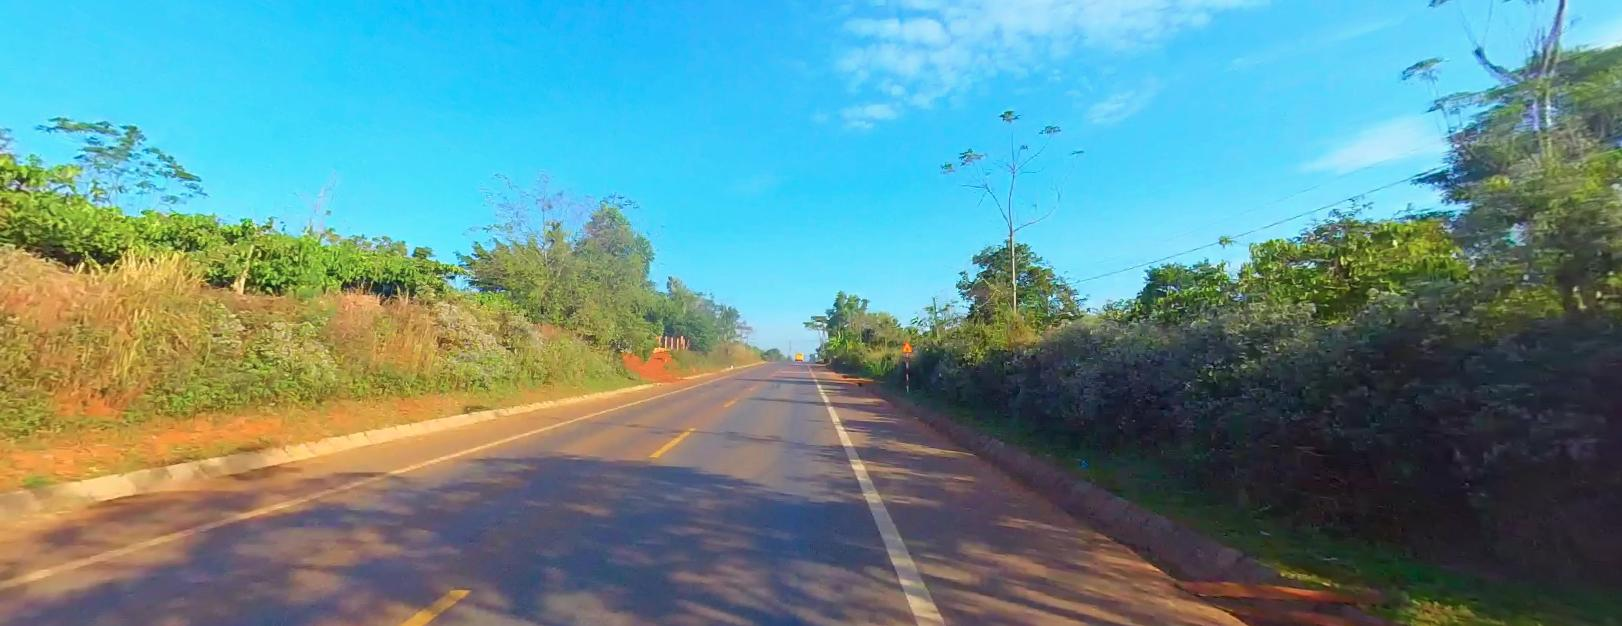Nguy hiem: (900, 340, 915, 352)
